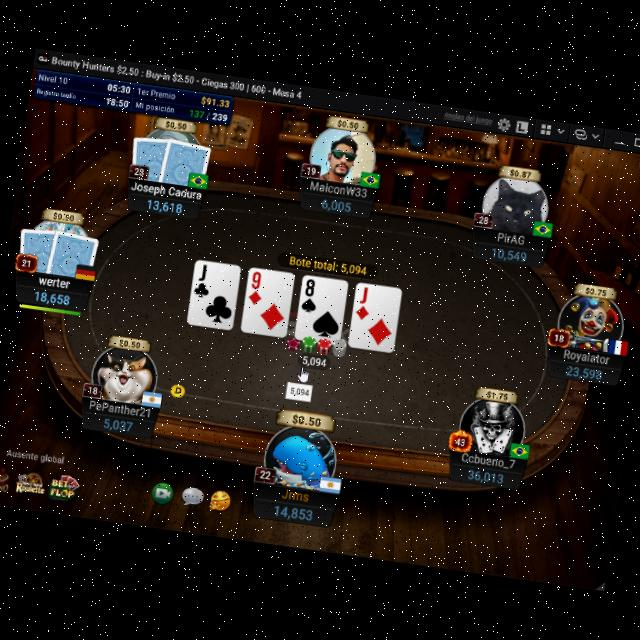8s: (300, 278, 320, 316)
9d: (246, 268, 268, 308)
Jc: (193, 261, 216, 300)
Jd: (354, 283, 374, 321)
bet_text: (301, 352, 328, 368)
card_back: (157, 134, 214, 192), (46, 225, 102, 281), (14, 222, 64, 276), (127, 131, 175, 183)
dealer: (169, 381, 187, 399)
pot_text: (288, 255, 369, 278)
stack_text: (271, 501, 315, 524), (564, 362, 606, 381), (146, 196, 184, 216), (466, 466, 506, 485), (34, 287, 72, 306), (491, 246, 529, 264), (320, 196, 354, 215), (102, 415, 136, 433), (298, 366, 311, 383)
